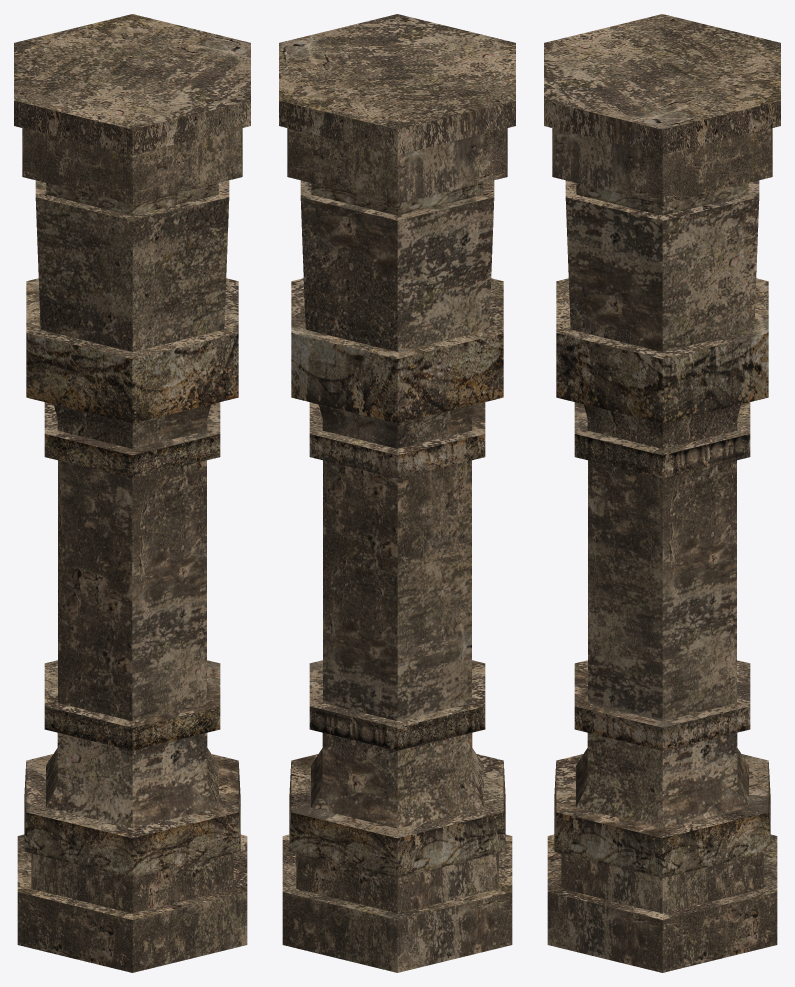
Rendered from materials_5_pillar_short_14.fbx.
The picture shows the model from 3 angles, left to right: view 1: azimuth 30°, elevation 25°; view 2: azimuth 150°, elevation 25°; view 3: azimuth 270°, elevation 25°; orthographic projection.
Visible parts, largest first — view 1: materials_5_pillar_short_14; view 2: materials_5_pillar_short_14; view 3: materials_5_pillar_short_14.
Part boxes in pixels (x1,y1,x2,y2): materials_5_pillar_short_14: [14, 14, 250, 972]; materials_5_pillar_short_14: [279, 14, 515, 972]; materials_5_pillar_short_14: [544, 14, 780, 972].
Size of the model in its own units: 45.27 by 154 by 39.2.
